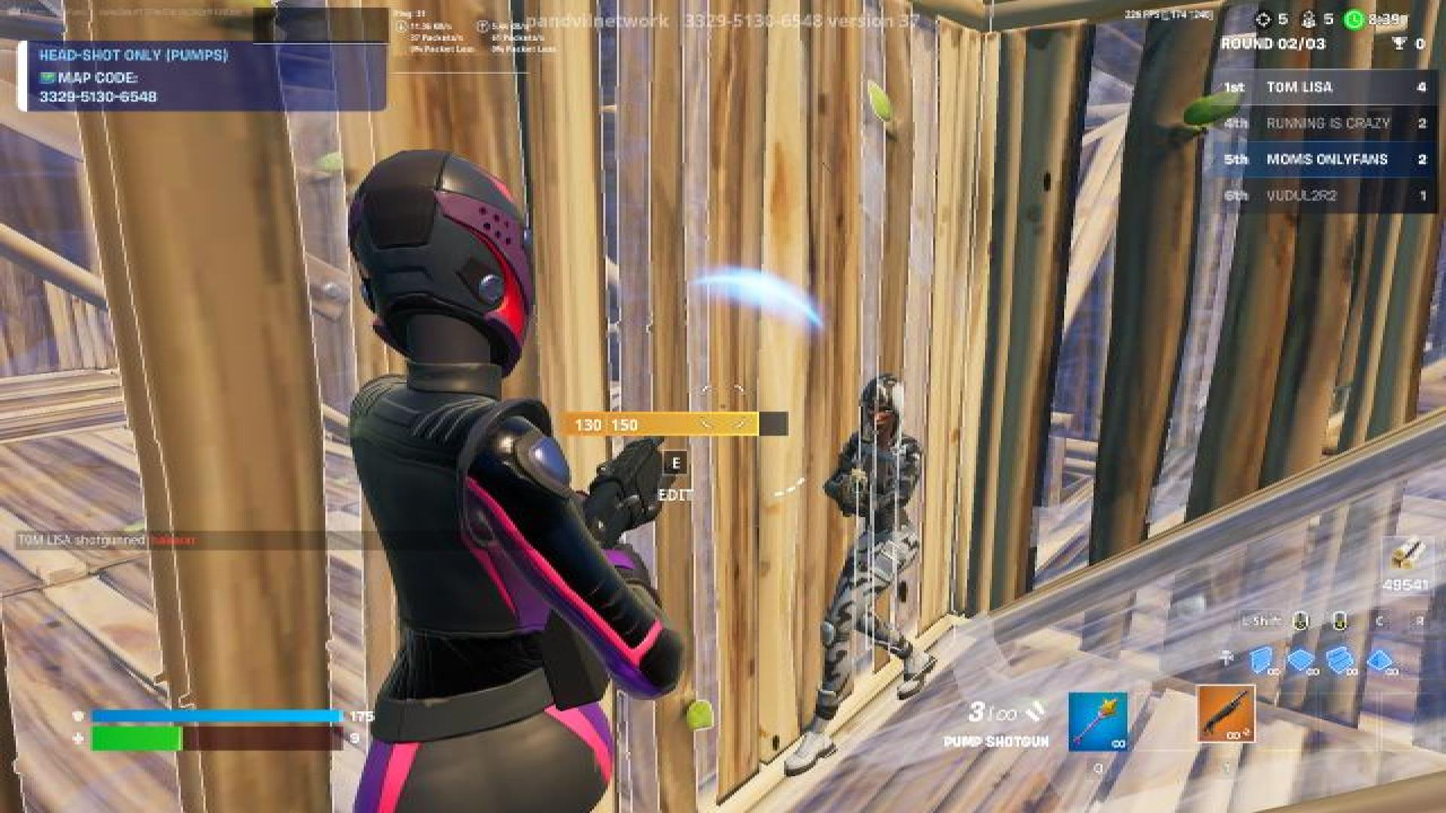player: (777, 364, 942, 783)
